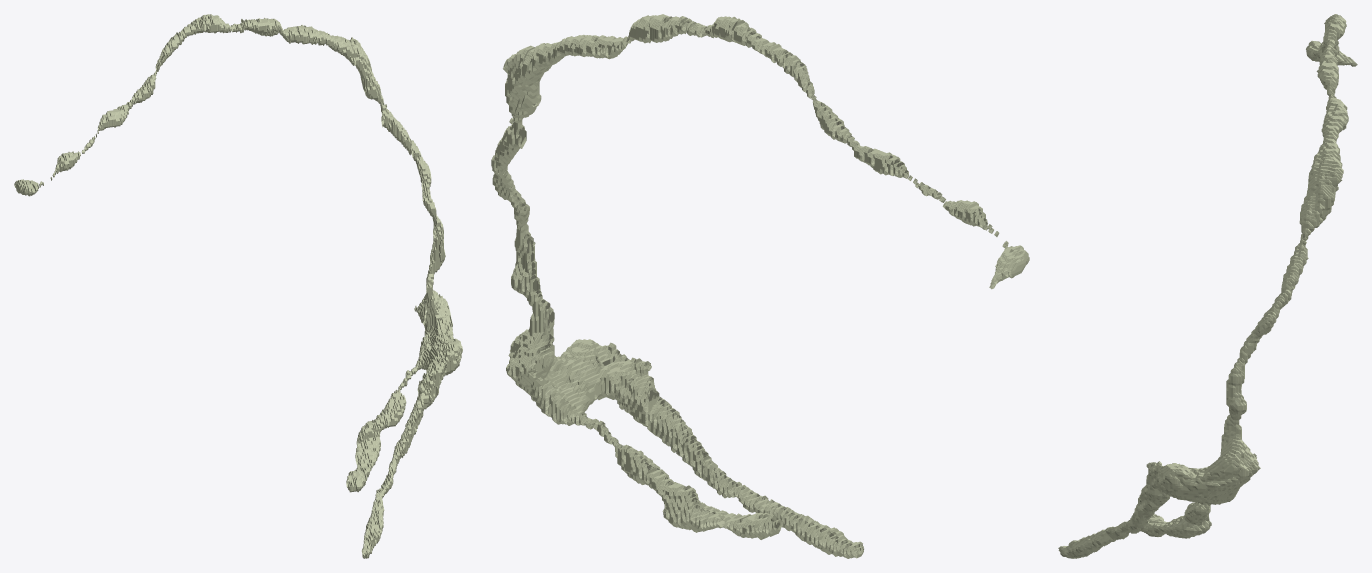
File: SVV_BAGL.gltf
The picture shows the model from 3 angles, left to right: view 1: azimuth 30°, elevation 25°; view 2: azimuth 150°, elevation 25°; view 3: azimuth 270°, elevation 25°; orthographic projection. The views are drawn at different scales.
Parts seen in each view (by area): view 1: BAGL; view 2: BAGL; view 3: BAGL.
Part boxes in pixels (box(x1,y1,x2,y2)): BAGL: box(14, 14, 462, 558); BAGL: box(491, 14, 1029, 558); BAGL: box(1058, 14, 1357, 558).
Size of the model in its own units: 127601 by 145111 by 76277.
